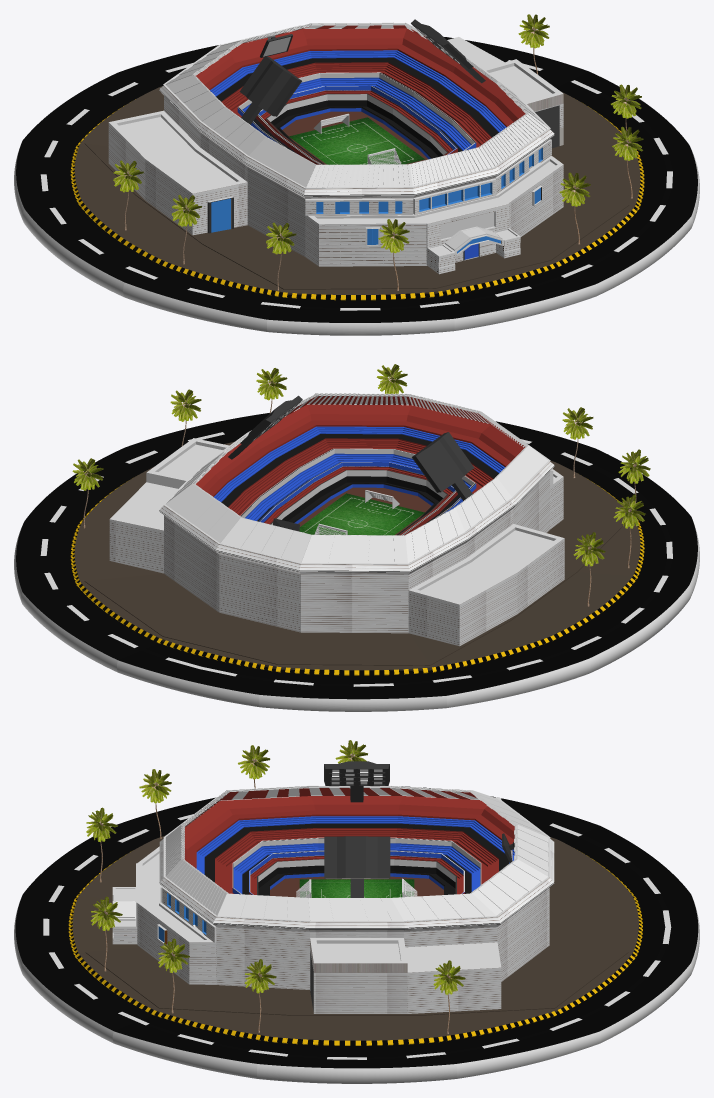
Rendered from stadium.glb.
3 views of the same model, one above another, from view 1: azimuth 30°, elevation 25°; view 2: azimuth 150°, elevation 25°; view 3: azimuth 270°, elevation 25° (orthographic).
Parts seen in each view (by area): view 1: Cube, Circle, Tree_1_date palm leaf_0.006, Tree_1_date palm leaf_0.007, Tree_1_date palm leaf_0.005, Tree_1_date palm leaf_0.004, Tree_1_date palm leaf_0.003, Tree_1_date palm leaf_0.002, Tree_1_date palm leaf_0.001, Tree_1; view 2: Cube, Circle, Tree_1_date palm leaf_0.002, Tree_1_date palm leaf_0.001, Tree_1, Tree_1_date palm leaf_0.004, Tree_1_date palm leaf_0.005, Tree_1_date palm leaf_0.007, Tree_1_date palm leaf_0.003, Tree_1_date palm leaf_0.006; view 3: Cube, Circle, Tree_1_date palm leaf_0.002, Tree_1_date palm leaf_0.001, Tree_1_date palm leaf_0.007, Tree_1_date palm leaf_0.003, Tree_1_date palm leaf_0.004, Tree_1_date palm leaf_0.005, Tree_1_date palm leaf_0.006.
Boxes of the visible parts, <box> form: Cube: <box>14,19,699,335</box>; Circle: <box>40,57,672,310</box>; Tree_1_date palm leaf_0.006: <box>559,172,590,206</box>; Tree_1_date palm leaf_0.007: <box>378,219,409,253</box>; Tree_1_date palm leaf_0.005: <box>518,14,549,48</box>; Tree_1_date palm leaf_0.004: <box>612,126,643,160</box>; Tree_1_date palm leaf_0.003: <box>610,84,641,118</box>; Tree_1_date palm leaf_0.002: <box>266,222,296,254</box>; Tree_1_date palm leaf_0.001: <box>172,195,201,226</box>; Tree_1: <box>113,160,143,192</box>; Cube: <box>14,393,699,711</box>; Circle: <box>40,426,672,686</box>; Tree_1_date palm leaf_0.002: <box>618,449,650,483</box>; Tree_1_date palm leaf_0.001: <box>613,494,645,528</box>; Tree_1: <box>573,532,605,566</box>; Tree_1_date palm leaf_0.004: <box>256,368,287,400</box>; Tree_1_date palm leaf_0.005: <box>72,458,103,490</box>; Tree_1_date palm leaf_0.007: <box>562,407,593,439</box>; Tree_1_date palm leaf_0.003: <box>170,389,201,421</box>; Tree_1_date palm leaf_0.006: <box>376,364,407,393</box>; Cube: <box>14,761,699,1083</box>; Circle: <box>43,813,671,1059</box>; Tree_1_date palm leaf_0.002: <box>139,769,171,803</box>; Tree_1_date palm leaf_0.001: <box>238,745,270,779</box>; Tree_1_date palm leaf_0.007: <box>86,807,118,841</box>; Tree_1_date palm leaf_0.003: <box>244,959,276,993</box>; Tree_1_date palm leaf_0.004: <box>158,938,189,972</box>; Tree_1_date palm leaf_0.005: <box>433,960,465,994</box>; Tree_1_date palm leaf_0.006: <box>90,896,122,930</box>.
Bounding box in the file's own units: 8.65 × 2.03 × 8.79.
28 materials, 4 textured.
